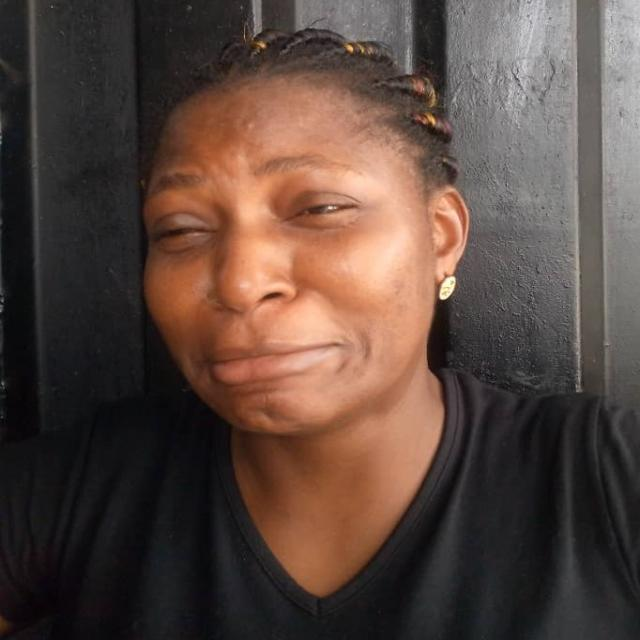sad: (132, 43, 470, 446)
